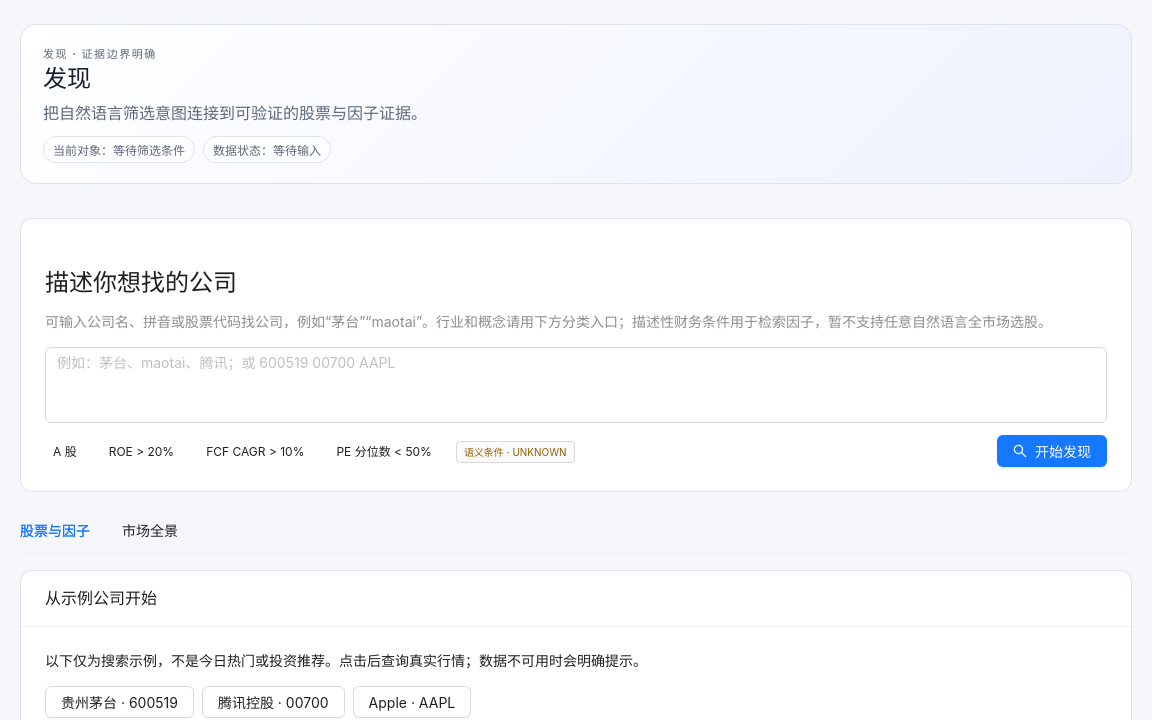
Discover market panorama charts › does not request market snapshots until the panorama tab is opened
The width and height of the screenshot is (1152, 720).
Click the tab "市场全景".
click(150, 531)  # box [122, 520, 178, 542]
(page scrolled)
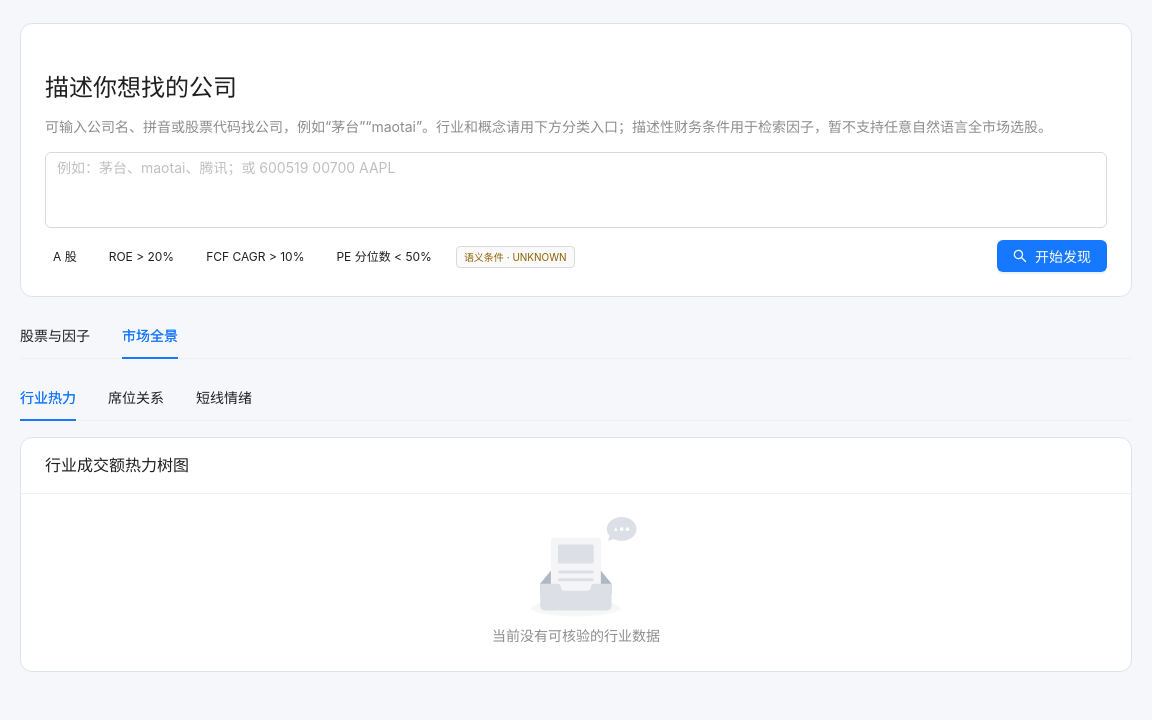
Now the text "当前没有可核验的行业数据" is shown, box [492, 627, 660, 644]
